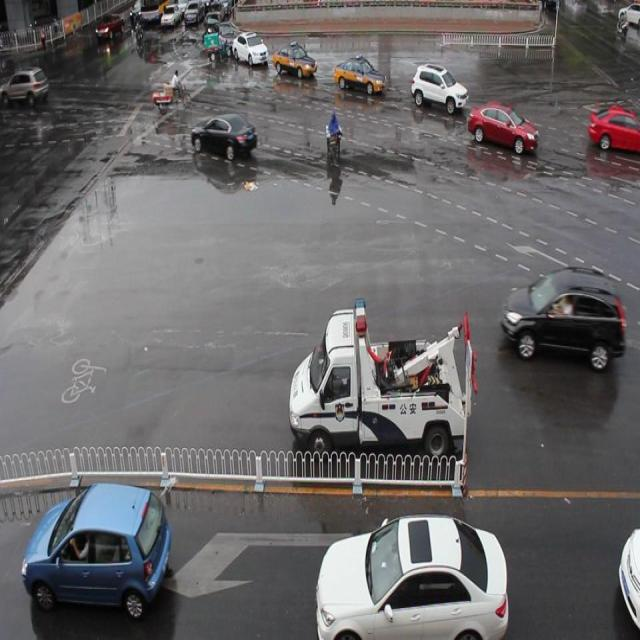bus: (289, 295, 476, 458)
car: (315, 513, 507, 640), (22, 478, 172, 616), (498, 265, 625, 370), (466, 96, 537, 154), (190, 110, 257, 160), (409, 59, 468, 115), (586, 102, 640, 154), (616, 522, 640, 628), (334, 52, 387, 96), (272, 39, 317, 82), (232, 29, 268, 68), (216, 21, 239, 58)
